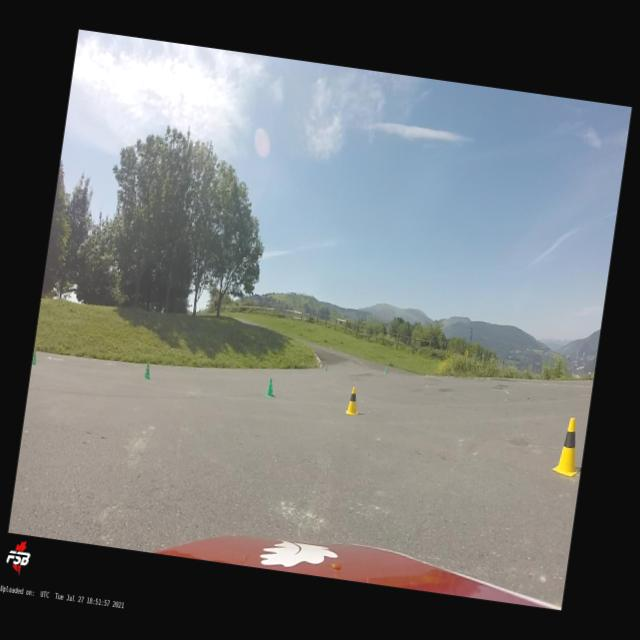unknown_cone: (265, 377, 275, 398), (144, 362, 152, 379), (32, 350, 38, 364), (384, 366, 388, 375), (324, 364, 328, 372)
yellow_cone: (552, 416, 587, 478), (345, 387, 361, 416)
